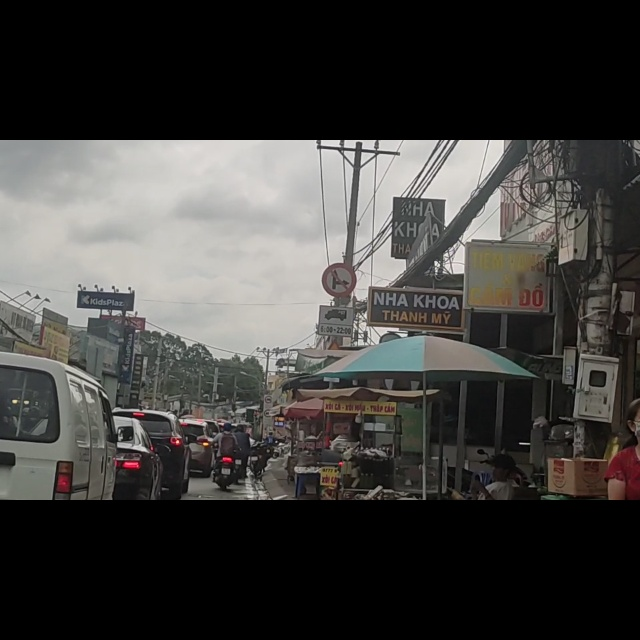bien_cam: (323, 220, 355, 280), (319, 295, 353, 350)
